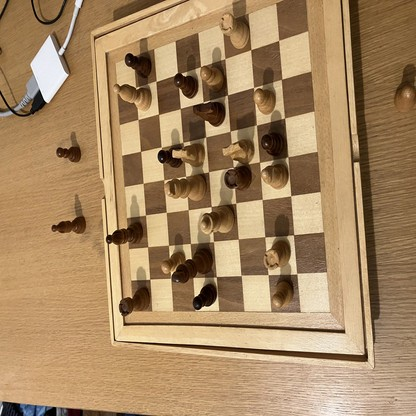bishop_black: (105, 221, 143, 246), (51, 217, 85, 234)
bishop_white: (114, 83, 153, 110), (263, 164, 288, 189)
king_black: (172, 246, 212, 283)
king_white: (164, 175, 207, 201)
knight_black: (193, 103, 226, 126)
knight_white: (172, 142, 205, 167), (224, 138, 253, 159)
pawn_black: (125, 52, 151, 79), (194, 283, 217, 308), (173, 74, 197, 97), (158, 143, 181, 167), (261, 134, 284, 157), (56, 147, 80, 162)
pawn_white: (395, 85, 415, 115), (201, 65, 223, 90), (271, 281, 293, 306), (255, 89, 276, 115), (161, 252, 184, 272)
queen_white: (199, 204, 234, 234)
rock_black: (120, 289, 151, 316), (224, 164, 251, 192)
rock_white: (220, 14, 249, 49), (264, 241, 290, 270)
